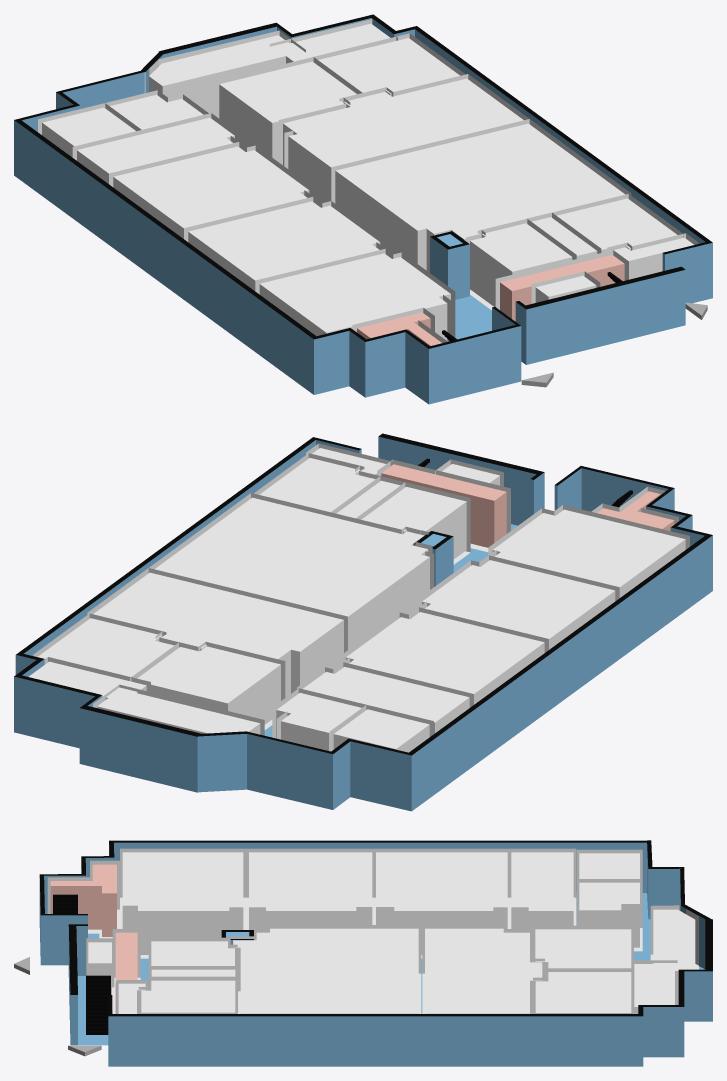
3 renders of one model, top to bottom at view 1: azimuth 30°, elevation 25°; view 2: azimuth 150°, elevation 25°; view 3: azimuth 270°, elevation 25°, orthographic. The views are drawn at different scales.
Parts seen in each view (by area): view 1: object, room_5_1_5, room_5_1_12, room_5_1_14, room_5_1_1, room_5_1_13, room_5_1_11, room_5_1_6, room_5_1_8, room_5_1_4, room_5_1_7, room_5_1_16 (+20 smaller); view 2: object, room_5_1_5, room_5_1_12, room_5_1_14, room_5_1_13, room_5_1_1, room_5_1_11, room_5_1_6, room_5_1_8, room_5_1_4, room_5_1_7, room_5_1_16 (+21 smaller); view 3: object, room_5_1_5, room_5_1_1, room_5_1_14, room_5_1_12, room_5_1_13, room_5_1_8, room_5_1_6, room_5_1_4, room_5_1_11, room_5_1_16, room_5_1_9 (+26 smaller).
Boxes of the visible parts, left/top/right/bottom form: object: left=14, top=14, right=712, bottom=404; room_5_1_5: left=335, top=123, right=624, bottom=272; room_5_1_12: left=283, top=78, right=523, bottom=202; room_5_1_14: left=113, top=146, right=309, bottom=238; room_5_1_1: left=259, top=253, right=450, bottom=341; room_5_1_13: left=188, top=201, right=380, bottom=290; room_5_1_11: left=219, top=61, right=356, bottom=161; room_5_1_6: left=149, top=23, right=390, bottom=115; room_5_1_8: left=77, top=117, right=234, bottom=183; room_5_1_4: left=318, top=38, right=459, bottom=95; room_5_1_7: left=470, top=223, right=572, bottom=306; room_5_1_16: left=557, top=198, right=677, bottom=252; object: left=14, top=433, right=712, bottom=811; room_5_1_5: left=155, top=497, right=429, bottom=649; room_5_1_12: left=93, top=572, right=343, bottom=697; room_5_1_14: left=345, top=612, right=544, bottom=704; room_5_1_13: left=422, top=560, right=615, bottom=649; room_5_1_1: left=492, top=509, right=685, bottom=597; room_5_1_11: left=137, top=646, right=280, bottom=724; room_5_1_6: left=28, top=661, right=260, bottom=734; room_5_1_8: left=303, top=667, right=469, bottom=733; room_5_1_4: left=37, top=618, right=174, bottom=676; room_5_1_7: left=361, top=487, right=466, bottom=559; room_5_1_16: left=259, top=458, right=375, bottom=512; object: left=39, top=840, right=712, bottom=1066; room_5_1_5: left=233, top=928, right=418, bottom=1013; room_5_1_1: left=122, top=852, right=243, bottom=954; room_5_1_14: left=376, top=852, right=507, bottom=954; room_5_1_12: left=425, top=928, right=542, bottom=1013; room_5_1_13: left=249, top=852, right=372, bottom=929; room_5_1_8: left=511, top=852, right=573, bottom=928; room_5_1_6: left=634, top=909, right=695, bottom=1013; room_5_1_4: left=535, top=972, right=631, bottom=1013; room_5_1_11: left=535, top=929, right=631, bottom=977; room_5_1_16: left=141, top=980, right=235, bottom=1013; room_5_1_9: left=579, top=882, right=639, bottom=947.
Bounding box in the file's own units: 1.57 × 0.2131 × 2.64.
